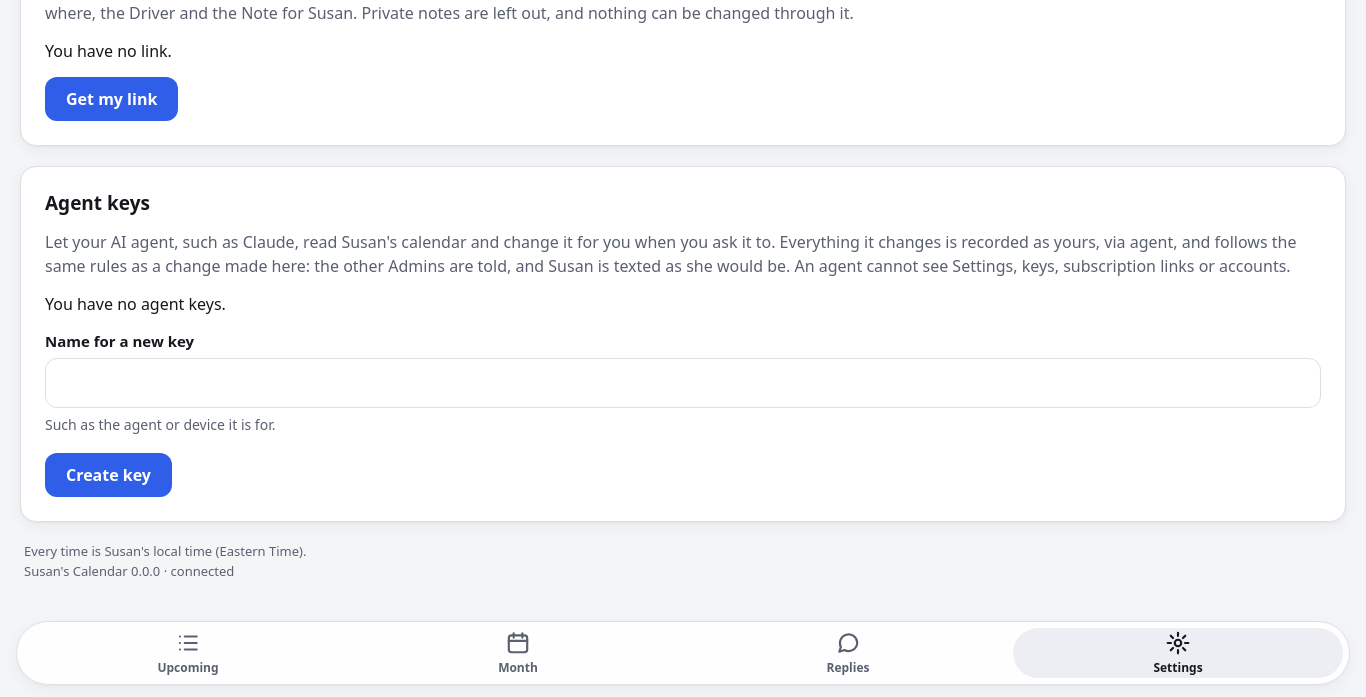
Test: the Agent keys section of Settings › revokes a key, after asking, and it stops working at once
This screenshot has width=1366, height=697.
(page scrolled)
Type "Laptop" into the field labelled "Name for a new key" at (683,383), box top-left (45, 358), bottom-right (1321, 408)
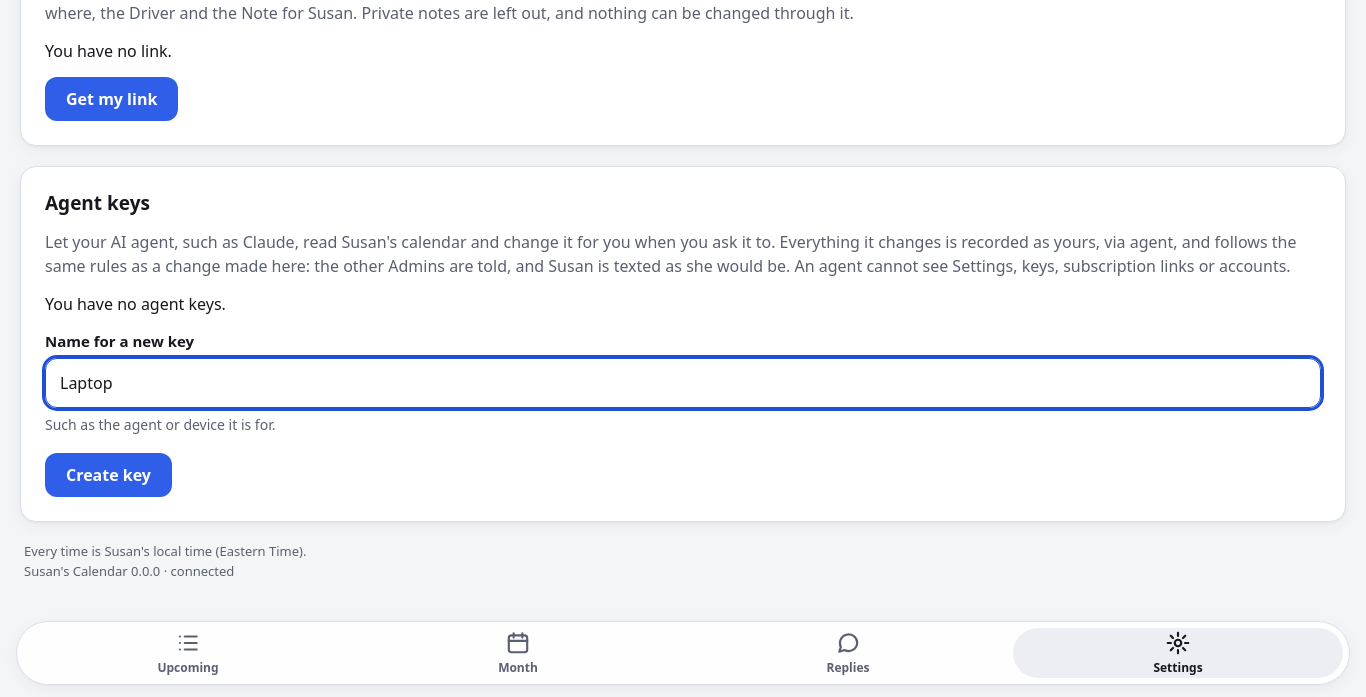
Click the button "Create key" at (108,475), box top-left (45, 453), bottom-right (172, 497)
(page scrolled)
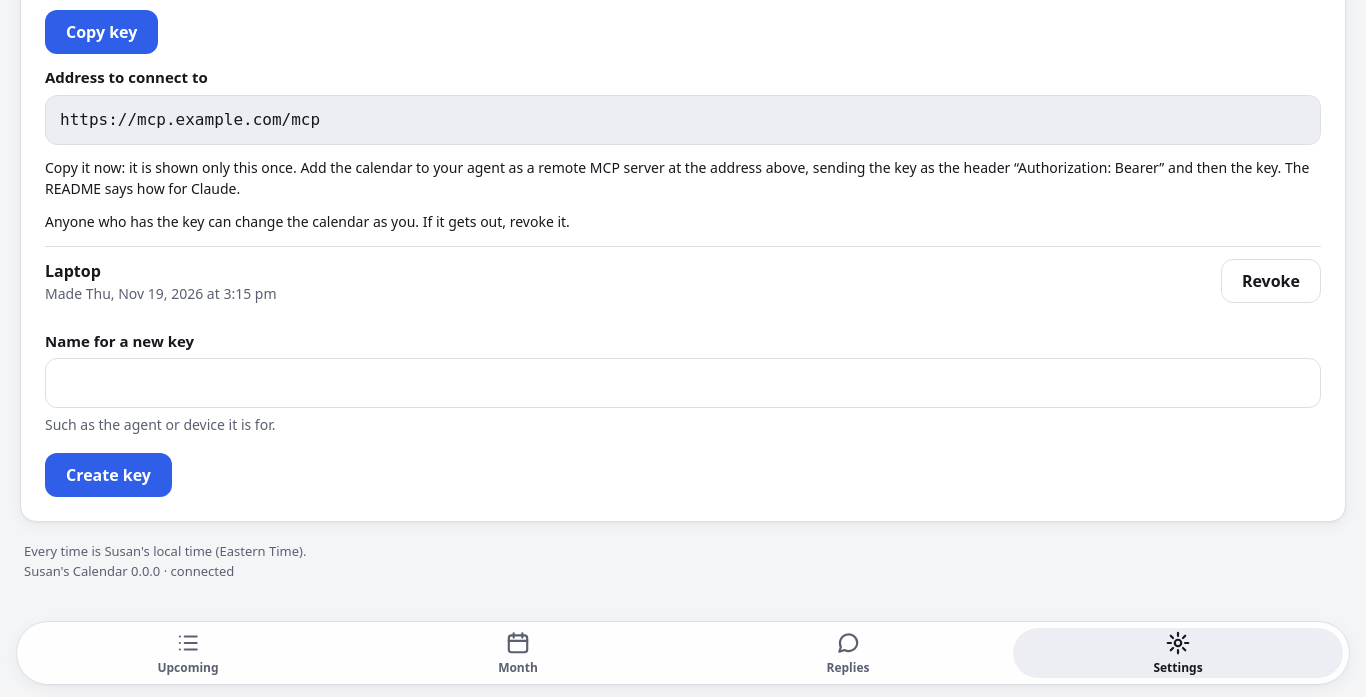
Type "Phone" into the field labelled "Name for a new key" at (683,383), box top-left (45, 358), bottom-right (1321, 408)
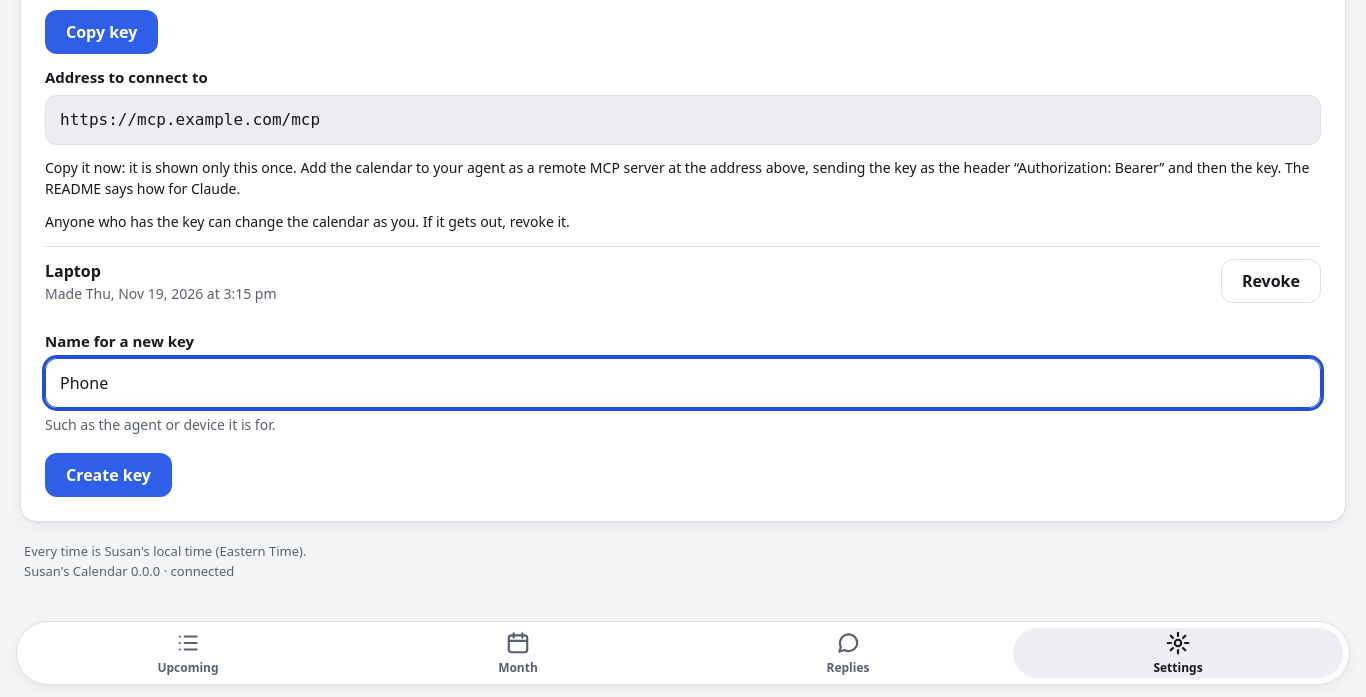
Click the button "Create key" at (108,475), box top-left (45, 453), bottom-right (172, 497)
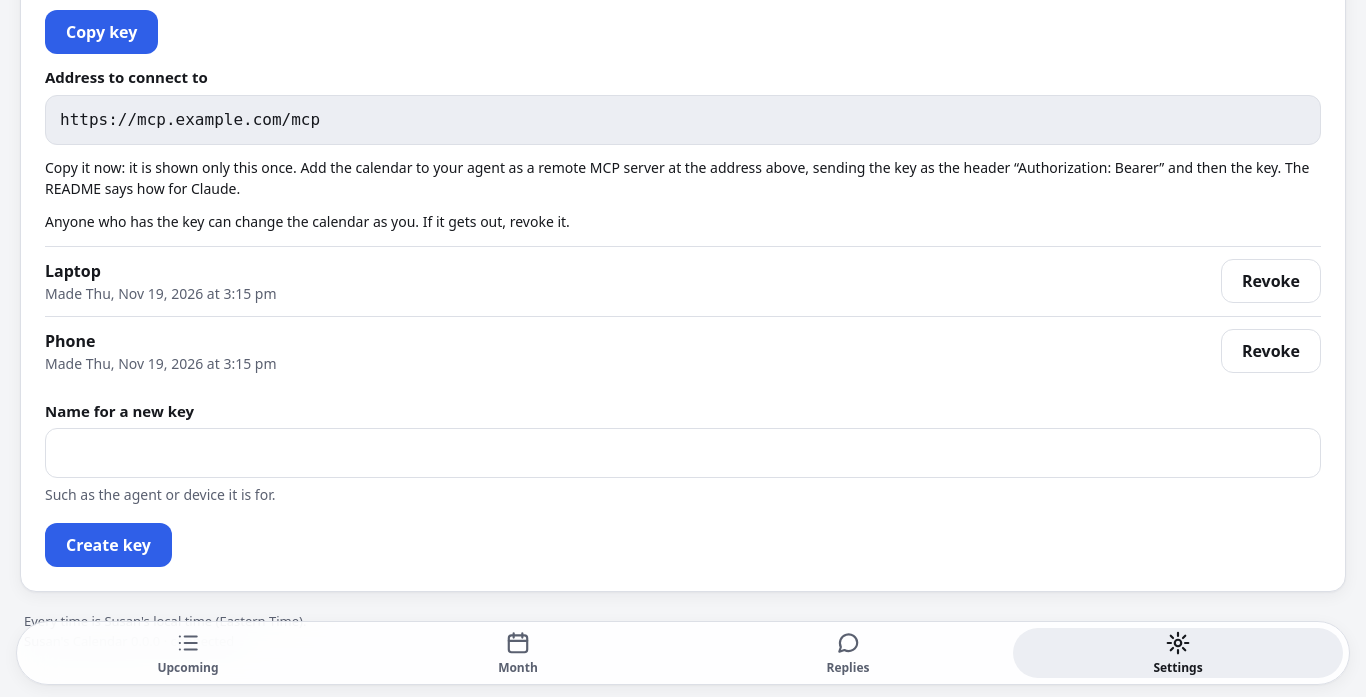
Click the button with aria-label "Revoke Laptop" at (1271,281), box top-left (1221, 259), bottom-right (1321, 303)
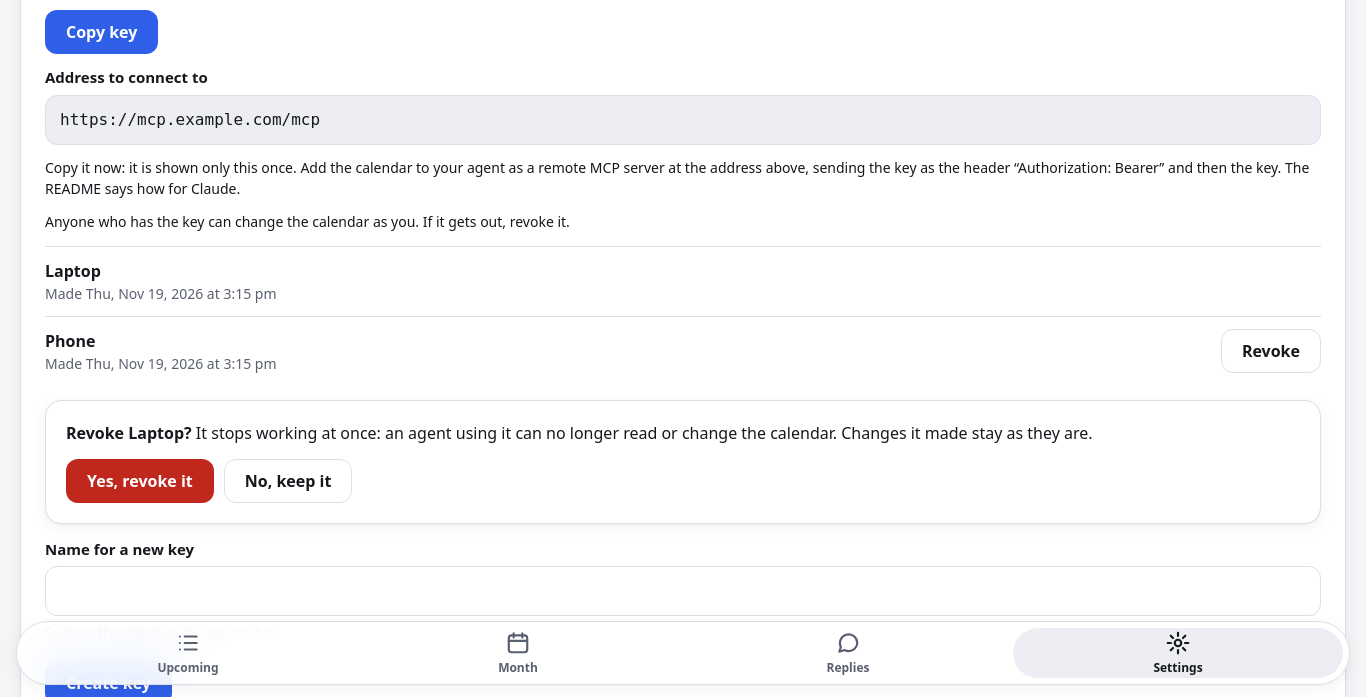
expect the element "Revoke Laptop?" shows "stops working at once": met, box top-left (192, 422), bottom-right (1093, 444)
Click the button "Yes, revoke it" at (140,481), box top-left (66, 459), bottom-right (214, 503)
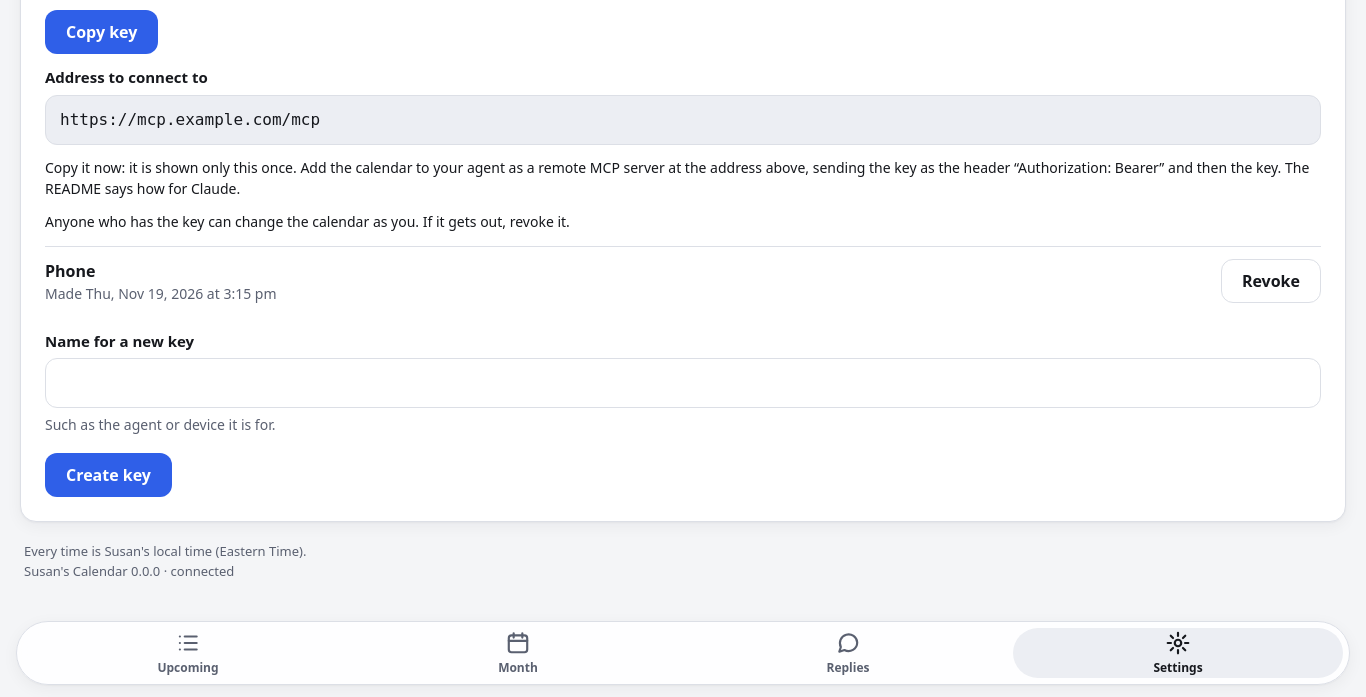
expect the text "Laptop" is gone: met
expect the number of list items is 1: met, box top-left (45, 246), bottom-right (1321, 316)
